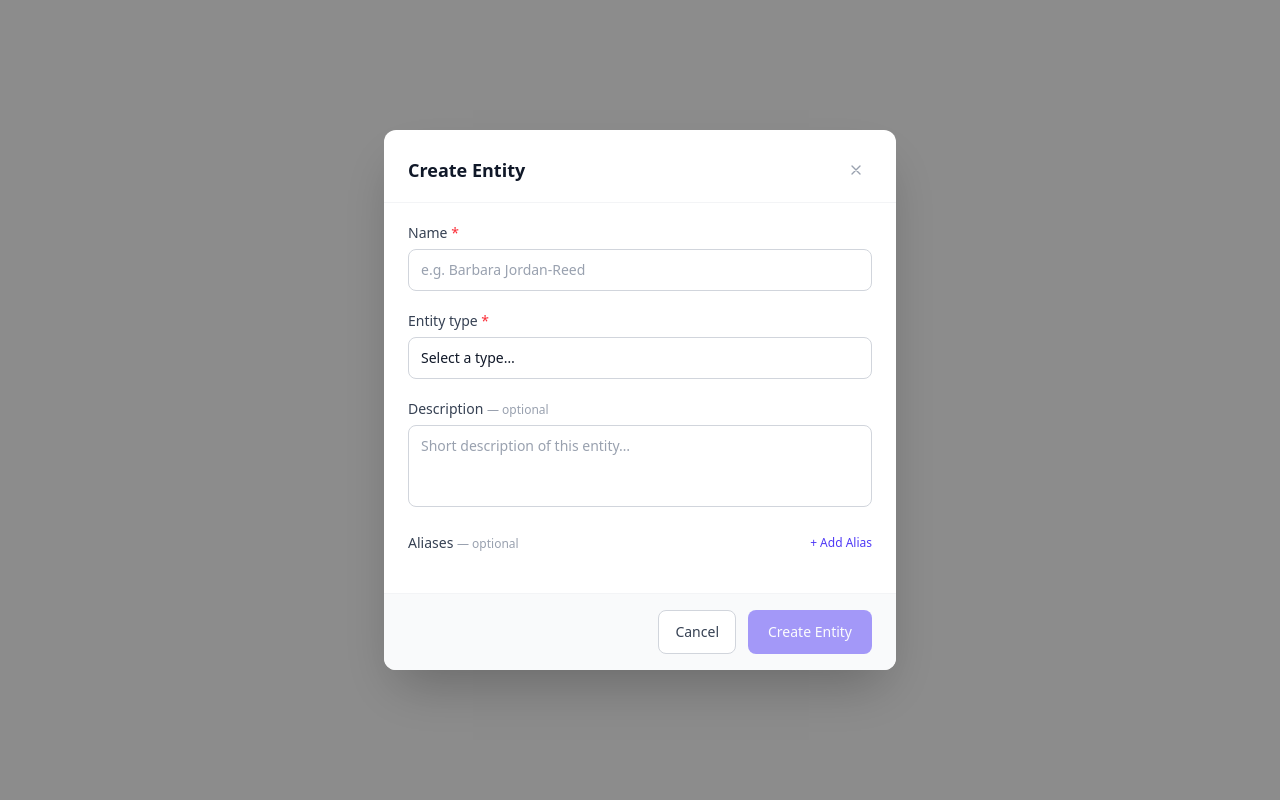
Test: CreateEntityModal — suggested entity type (Feature 098, US3) › does not override a type the user chose explicitly
Type "Test Person" into the dropdown labelled "Name *" at [640, 270], box x1=408 y1=249 x2=872 y2=291
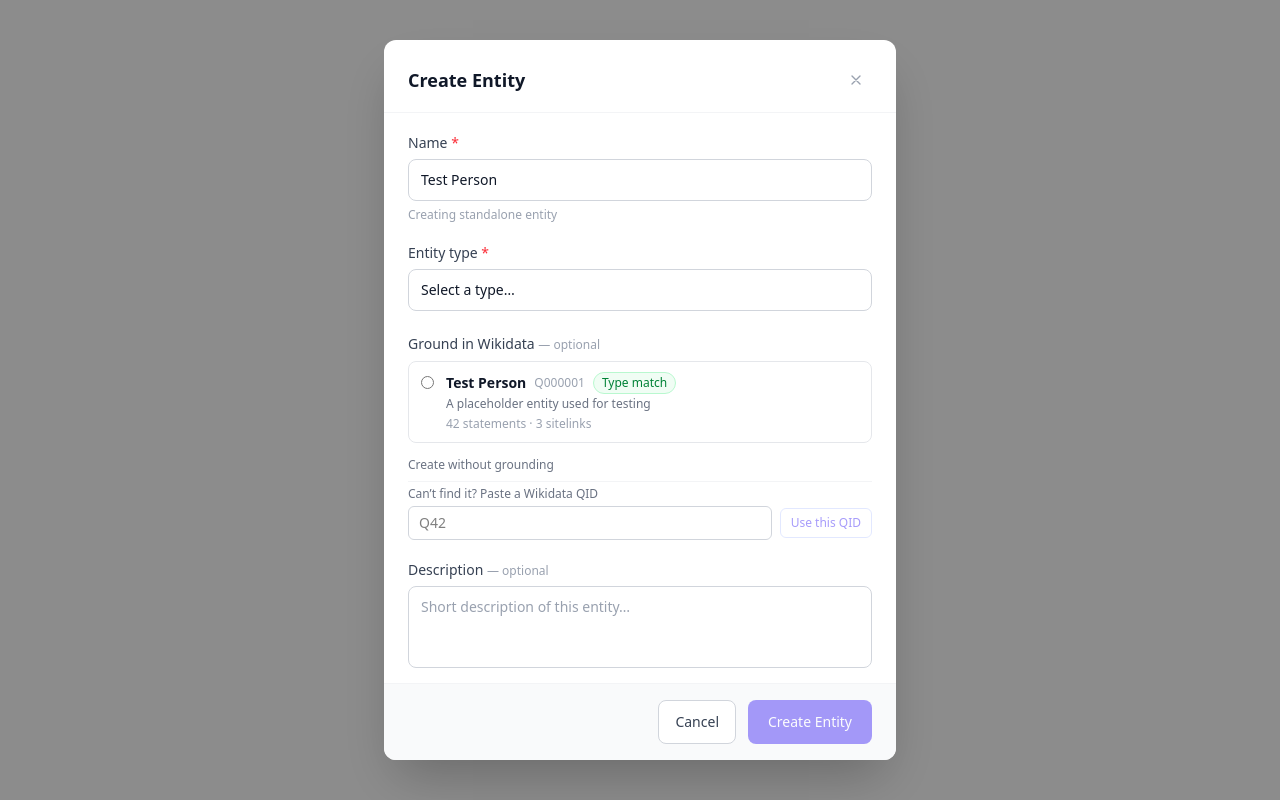
Select "Organization" in the dropdown labelled "Entity type *" at [640, 290], box x1=408 y1=269 x2=872 y2=311
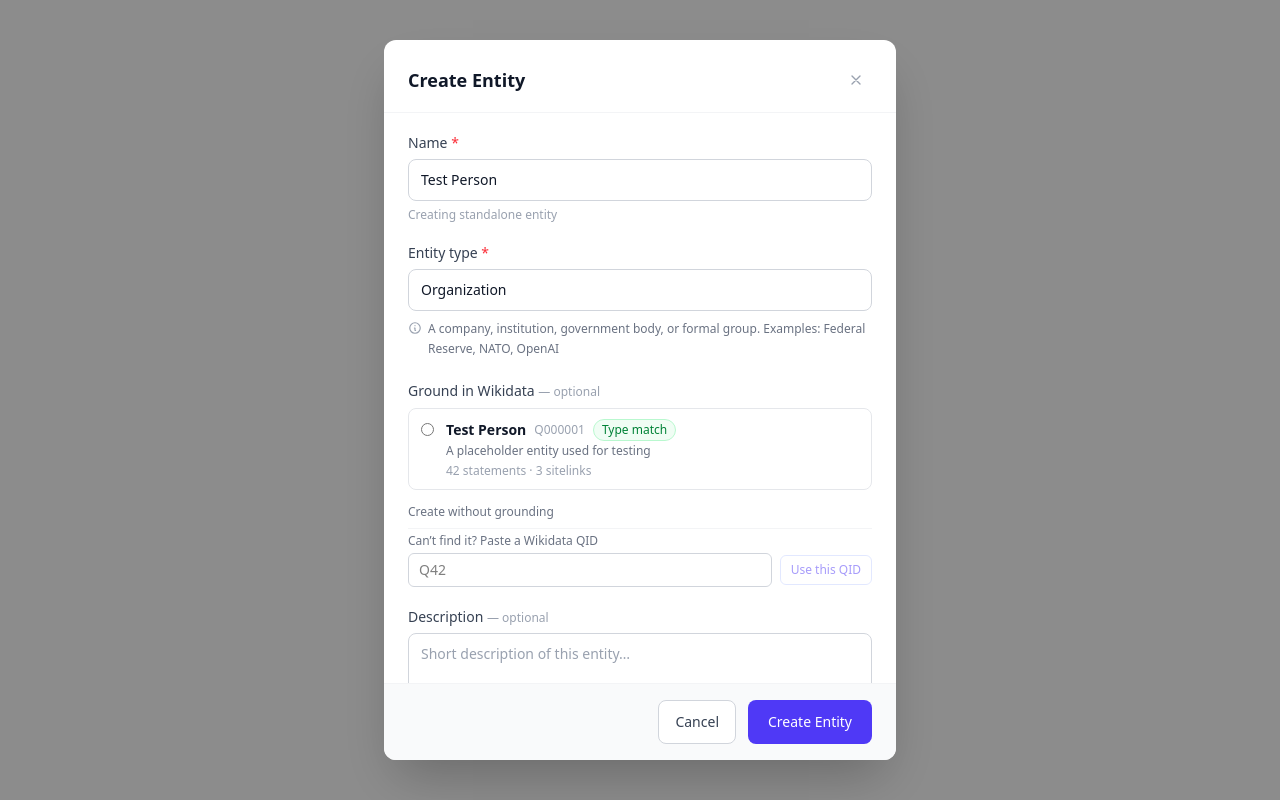
Click the radio button at [428, 430], box x1=421 y1=423 x2=434 y2=436
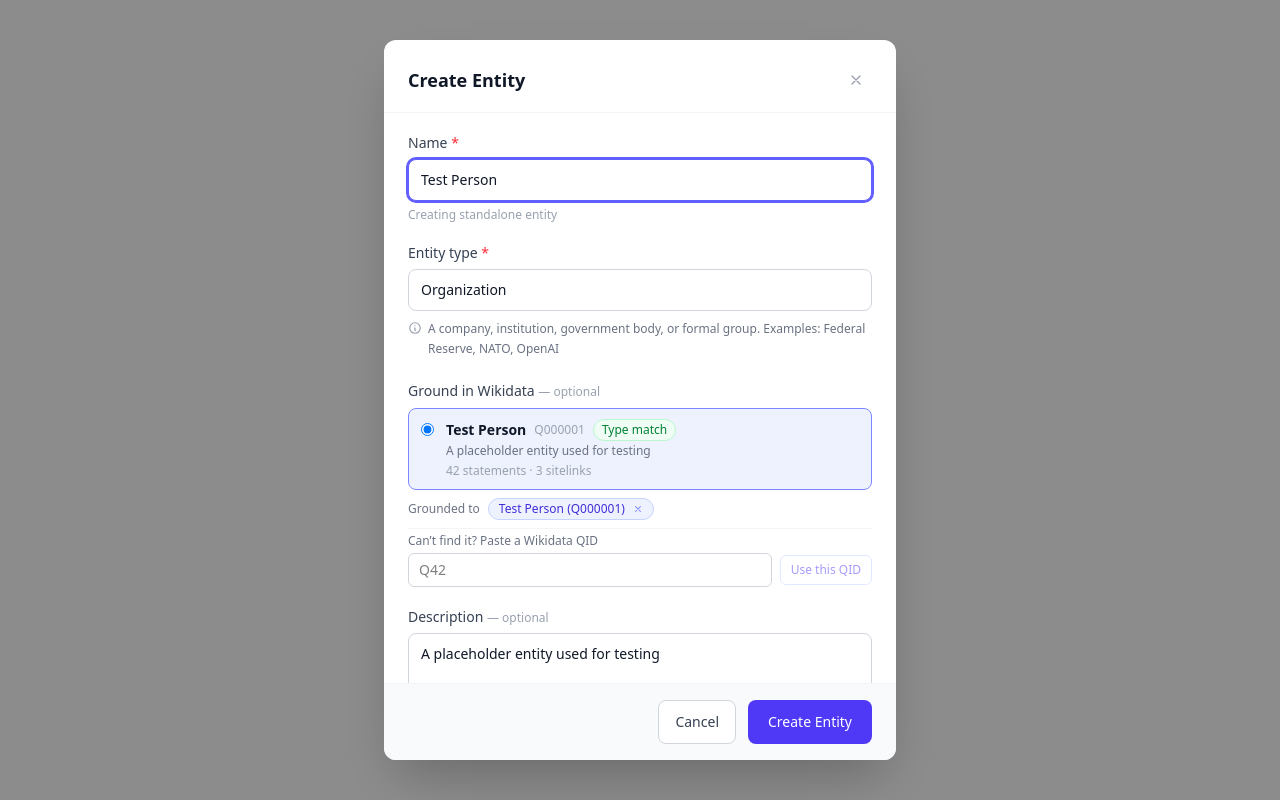
Check: the text "Grounded to" is shown, box x1=408 y1=501 x2=480 y2=517
